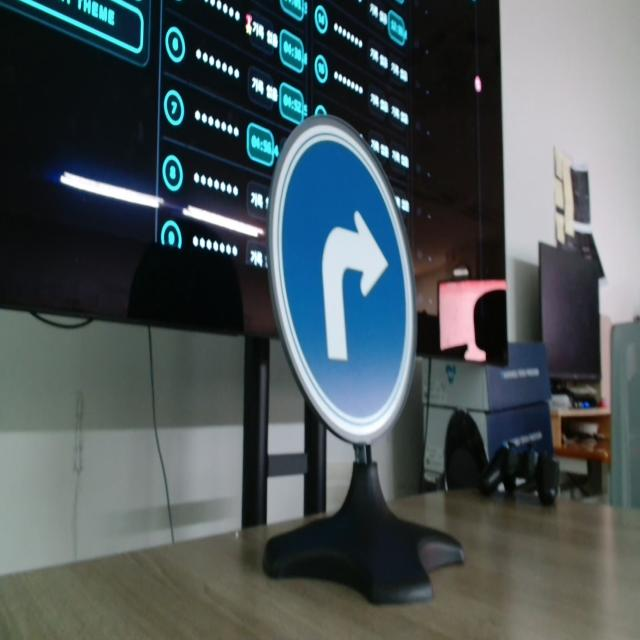right_dierection: (266, 121, 416, 439)
